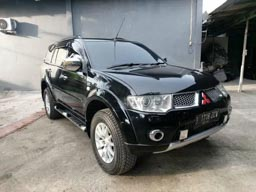plat: (194, 110, 218, 127)
